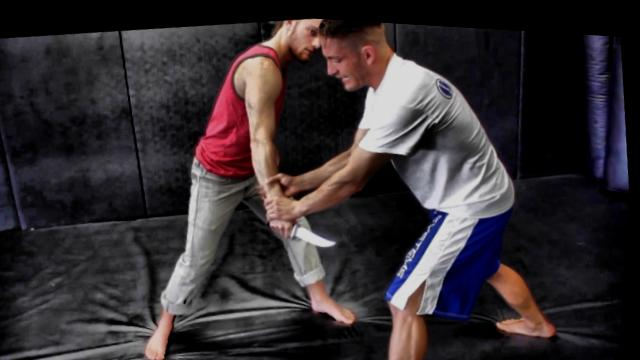knife: (264, 208, 344, 256)
